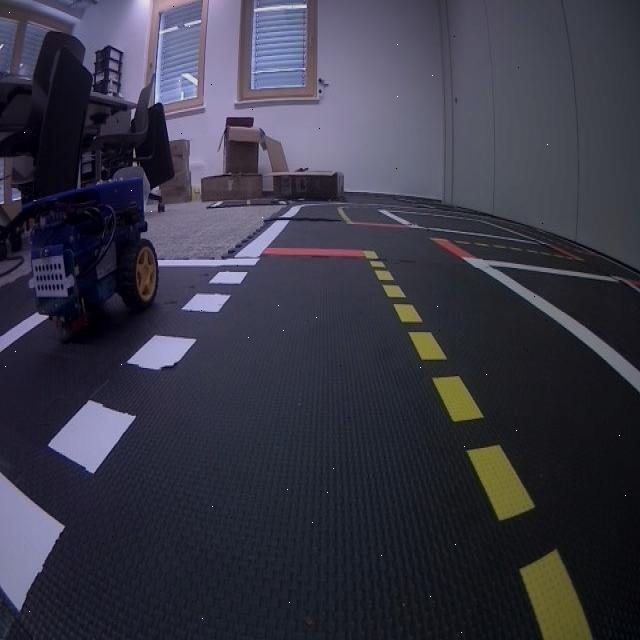bot: (22, 175, 158, 344)
park: (1, 259, 256, 612)
